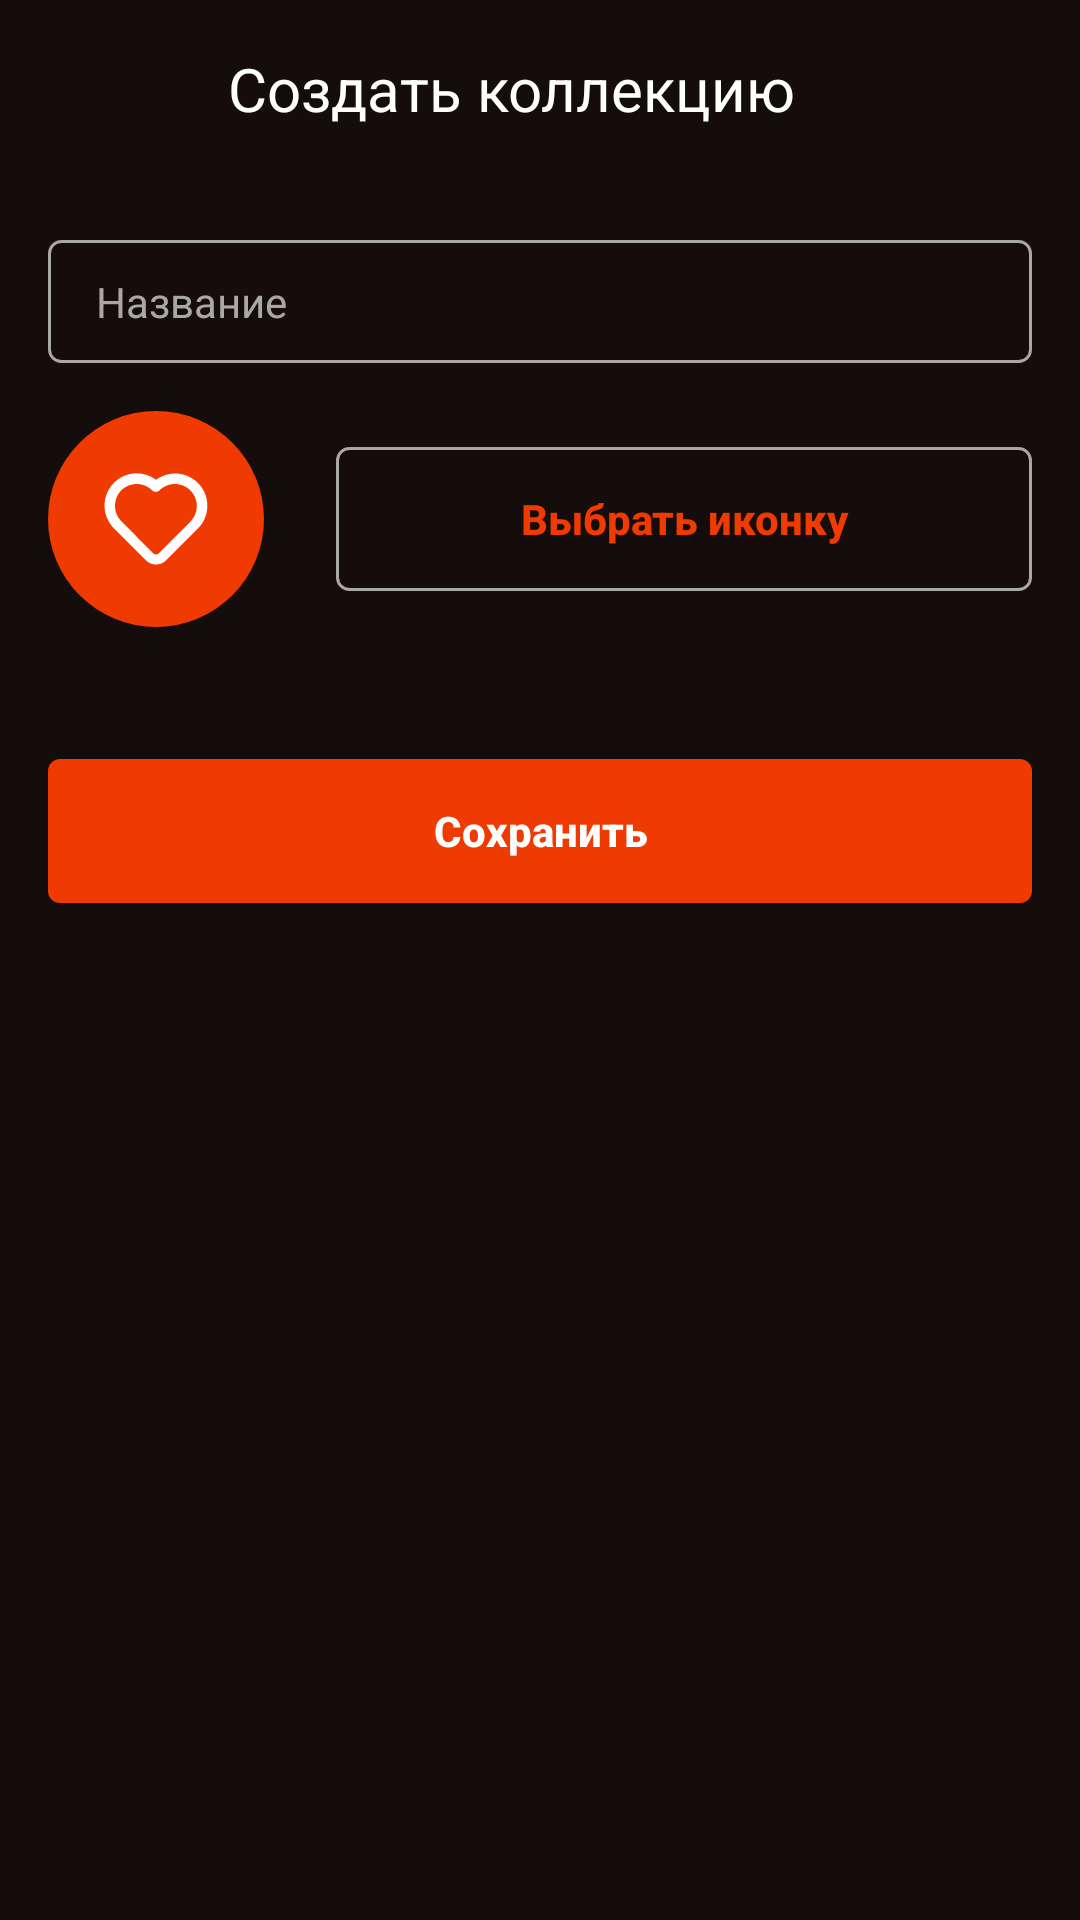

Icon click points for this 1080x1920 phone screenshot, format [x,y]:
collection: [156,519]
